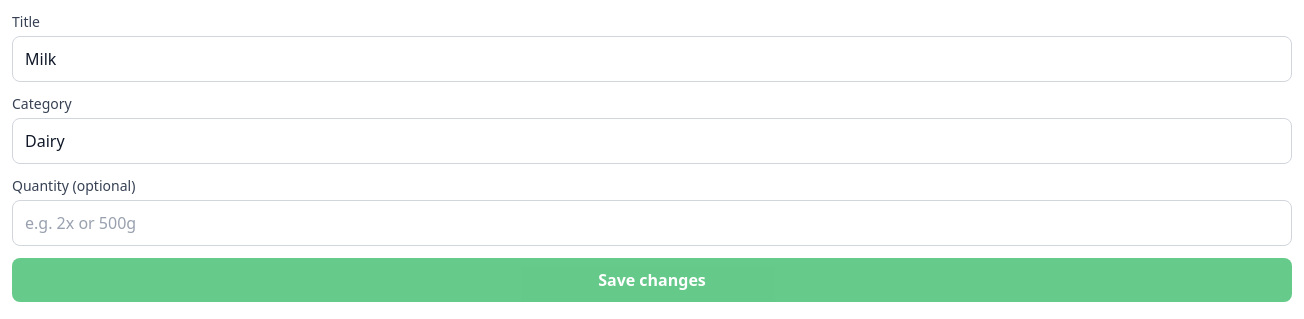
CategoryCombobox in ItemEditForm (T93) › 1. shows every category with its swatch in API order
Click the dropdown labelled "Category": [652, 141] box top-left (12, 118), bottom-right (1292, 164)
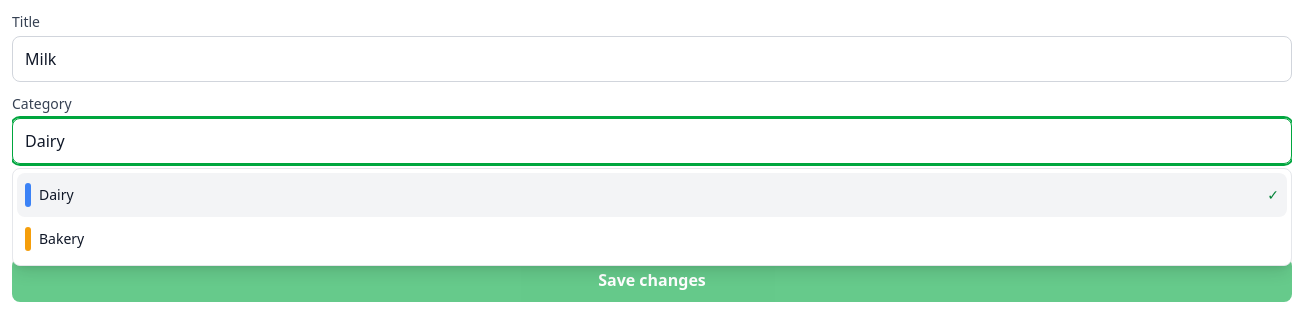
Check: the option with test id "category-option-c1" shows "Dairy", box top-left (17, 173), bottom-right (1287, 217)
Check: the option with test id "category-option-c2" reads "Bakery", box top-left (25, 227), bottom-right (84, 251)
